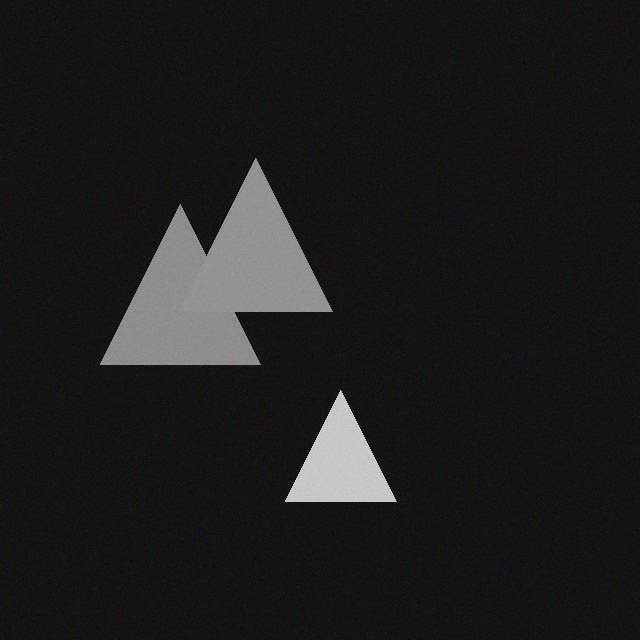triangle: (104, 203, 264, 363), (183, 157, 336, 310), (289, 389, 400, 500)
